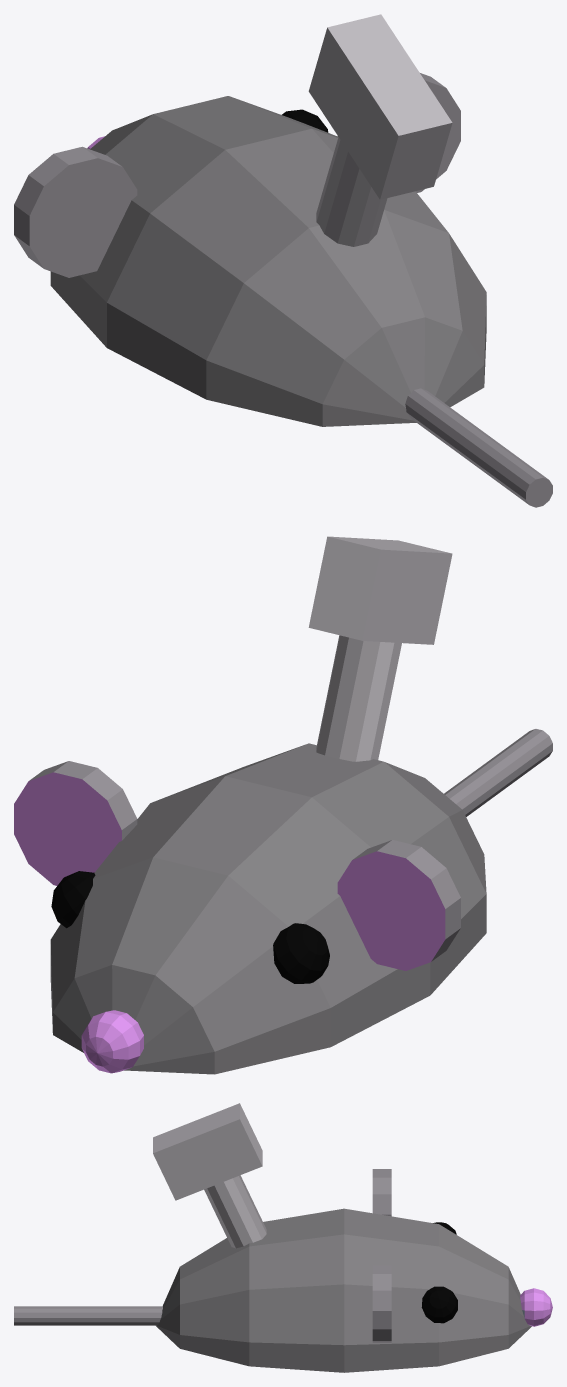
Rendered from mouse-toy.gltf.
3 renders of one model, top to bottom at view 1: azimuth 30°, elevation 25°; view 2: azimuth 150°, elevation 25°; view 3: azimuth 270°, elevation 25°, orthographic. The views are drawn at different scales.
Parts seen in each view (by area): view 1: body, keywinder, ears (×2), tail, cylinder; view 2: body, ears (×2), keywinder, cylinder, eye (×2), tail, nose; view 3: body, keywinder, tail, cylinder, ears (×2), eye, nose.
Part boxes in pixels (x1,y1,x2,y2): body: (50,96,486,426); keywinder: (308,14,452,199); ears (×2): (14,73,460,277); tail: (405,388,552,507); cylinder: (316,137,387,246); body: (50,743,486,1074); ears (×2): (14,761,460,970); keywinder: (308,536,452,644); cylinder: (316,635,401,761); eye (×2): (51,871,329,983); tail: (444,729,552,816); nose: (81,1010,143,1073); body: (156,1208,531,1372); keywinder: (153,1103,262,1200); tail: (14,1306,162,1325); cylinder: (204,1175,266,1248); ears (×2): (372,1169,391,1342); eye: (421,1286,457,1323); nose: (520,1288,552,1326).
Bounding box in the file's own units: 1 × 0.776 × 1.77.
1 material, 1 textured.
